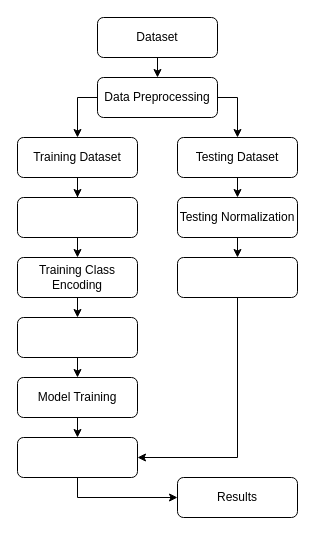
This 315x535 diagram has some shape labels left out. Here are the shapes that lost their labels. From the top down, the centre of each, then its label:
At (x=77, y=217): "Training Normalization".
At (x=237, y=277): "Testing Class Encoding".
At (x=77, y=337): "Model Development".
At (x=77, y=457): "Performance Evaluation".
